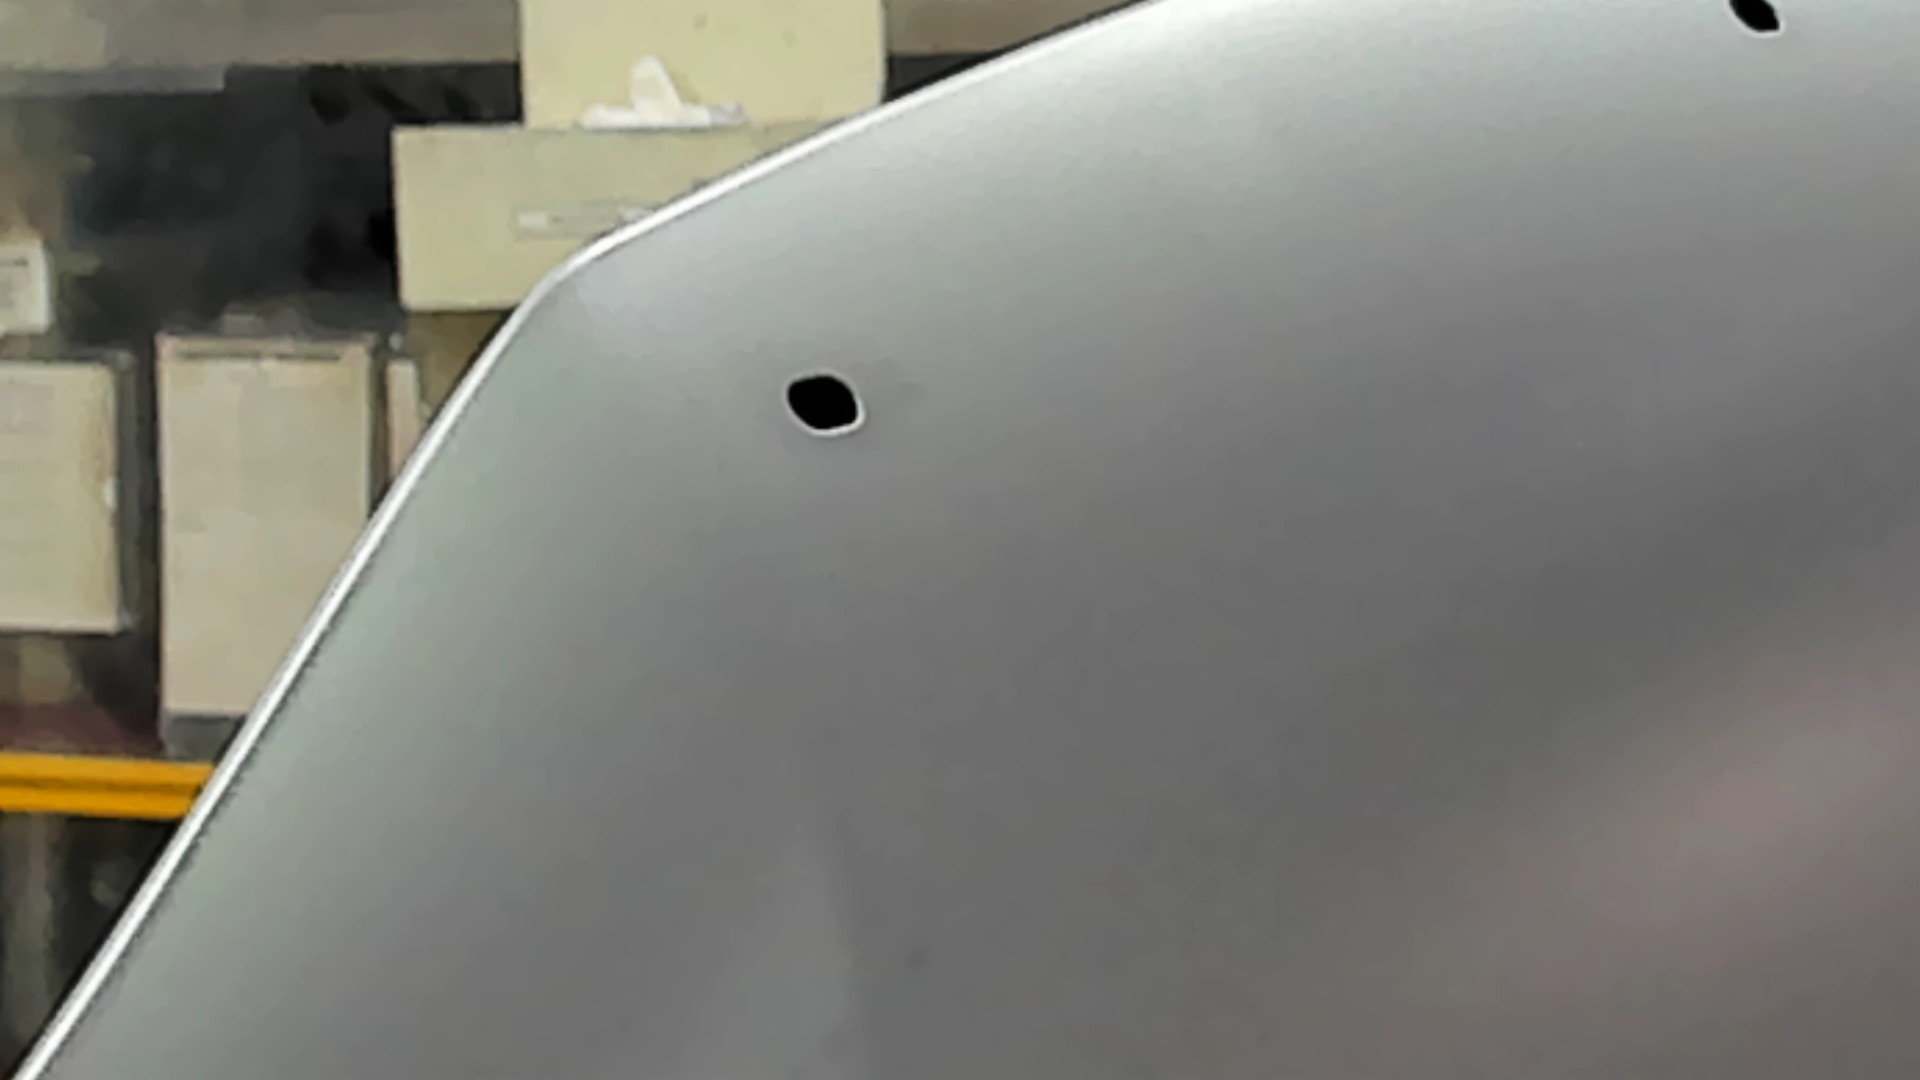amorfo: (777, 367, 876, 447), (1720, 1, 1789, 46)
capo: (1004, 115, 1920, 1080)
